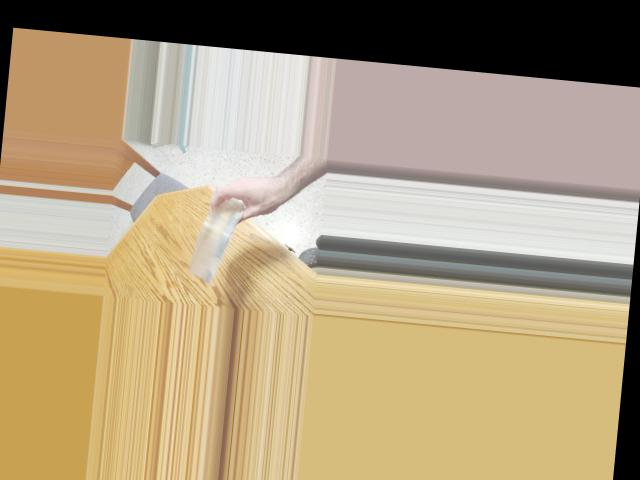cheese: (192, 186, 236, 286)
